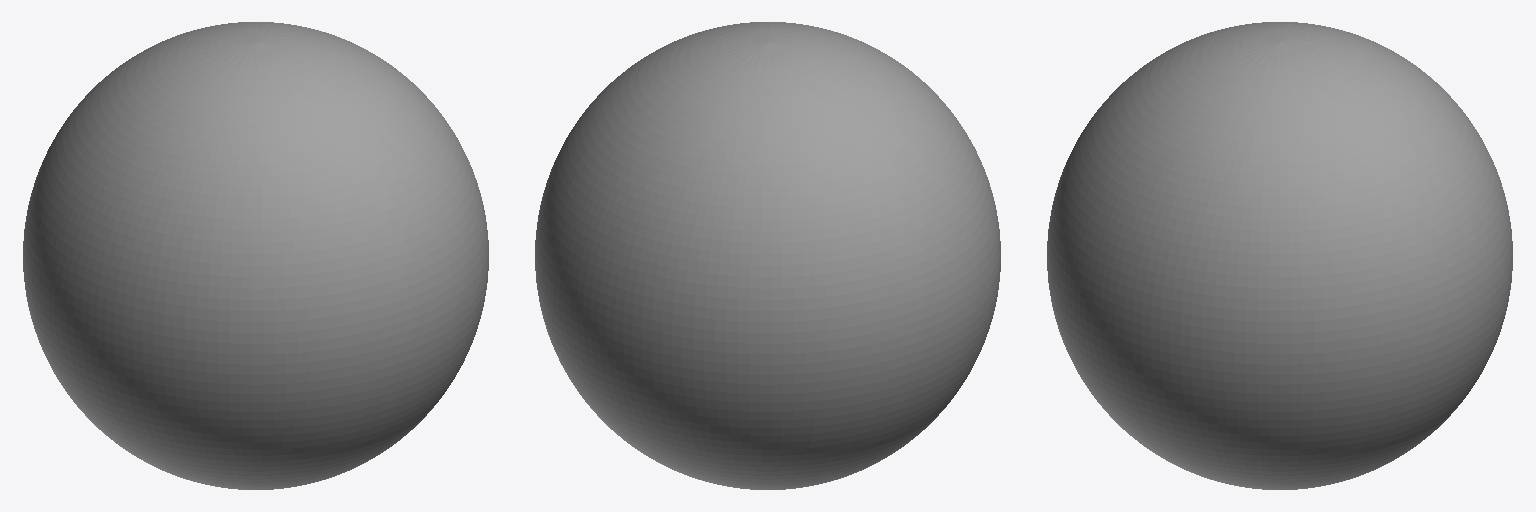
File: sun.obj
3 renders of one model, left to right at view 1: azimuth 30°, elevation 25°; view 2: azimuth 150°, elevation 25°; view 3: azimuth 270°, elevation 25°, orthographic.
Visible parts, largest first — view 1: Sphere; view 2: Sphere; view 3: Sphere.
Boxes of the visible parts, x1=… form: Sphere: x1=23, y1=22, x2=488, y2=489; Sphere: x1=535, y1=22, x2=1000, y2=489; Sphere: x1=1047, y1=22, x2=1512, y2=489.
Size of the model in its own units: 1.98 by 2 by 1.98.